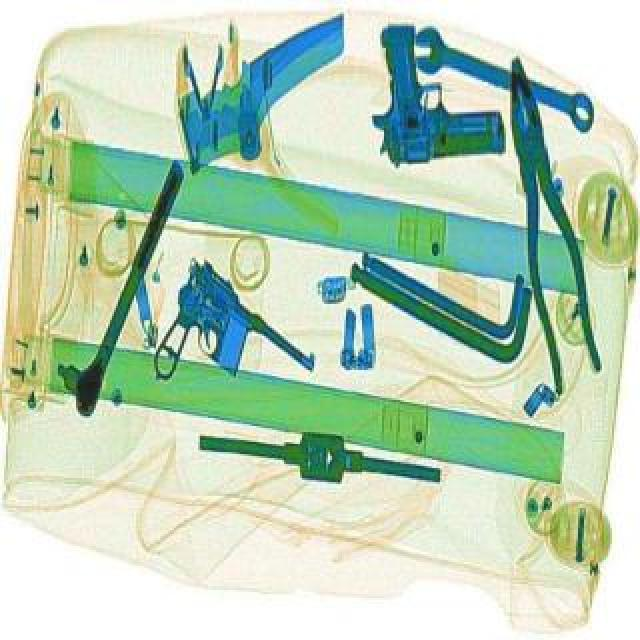gun: (114, 254, 328, 444), (356, 12, 508, 166)
scissors: (404, 20, 606, 132)
wrench: (486, 50, 608, 392)
